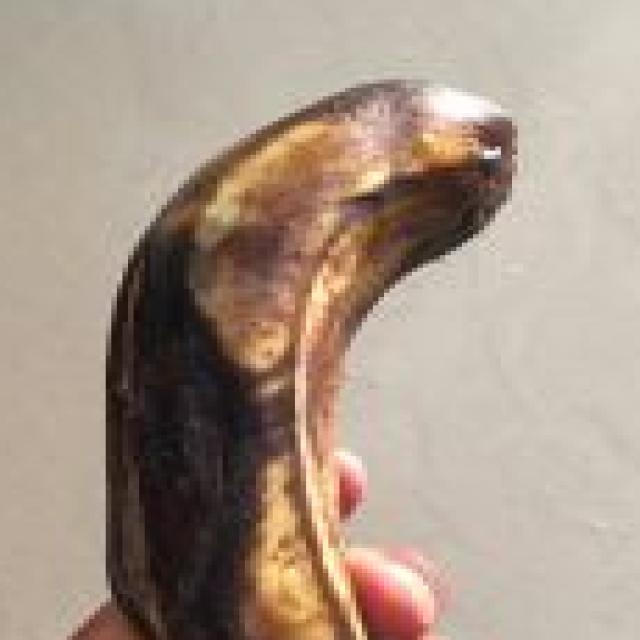Bad_Banana-0 day: (106, 79, 515, 640)
